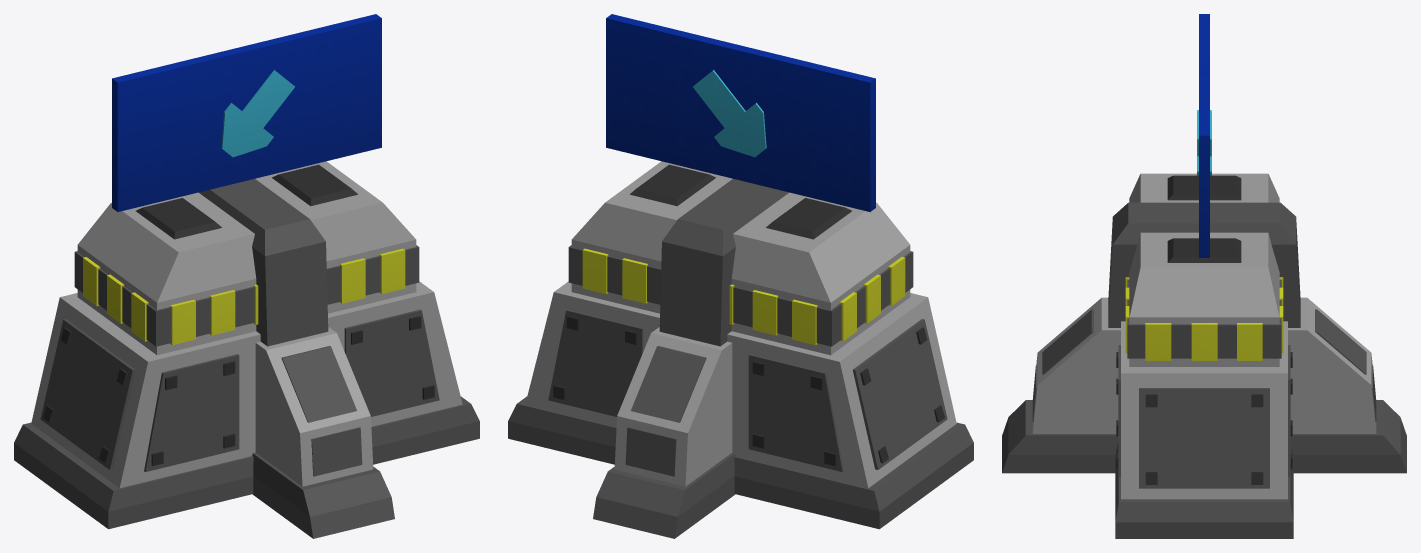
File: working_barrier_arrow.fbx
3 renders of one model, left to right at view 1: azimuth 30°, elevation 25°; view 2: azimuth 150°, elevation 25°; view 3: azimuth 270°, elevation 25°, orthographic. The views are drawn at different scales.
Visible parts, largest first — view 1: working_barrier_1, Arrow; view 2: working_barrier_1, Arrow; view 3: working_barrier_1, Arrow.
Boxes of the visible parts, box(x1,y1,x2,y2) form: working_barrier_1: box(14, 161, 479, 538); Arrow: box(112, 14, 381, 211); working_barrier_1: box(508, 161, 973, 538); Arrow: box(606, 14, 875, 211); working_barrier_1: box(1002, 173, 1406, 538); Arrow: box(1197, 14, 1211, 257).
Size of the model in its own units: 150 by 155 by 150.
